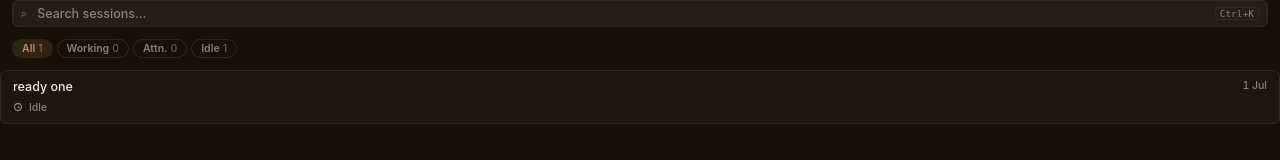
SessionRail filter chips › says so rather than showing an empty rail when a chip matches nothing
Step 1. Click the button "Working0" → (93, 48), box [56,39,129,58]
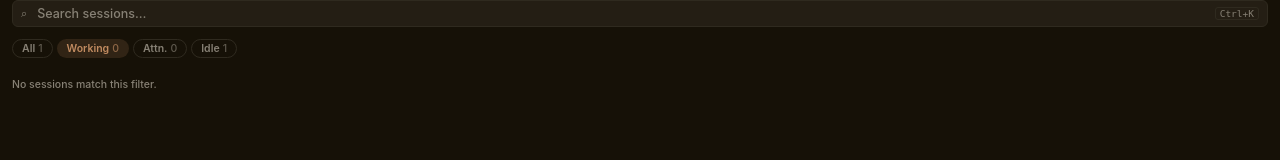
expect the text "No sessions match this filter." is shown: met, box [12,78,157,91]
